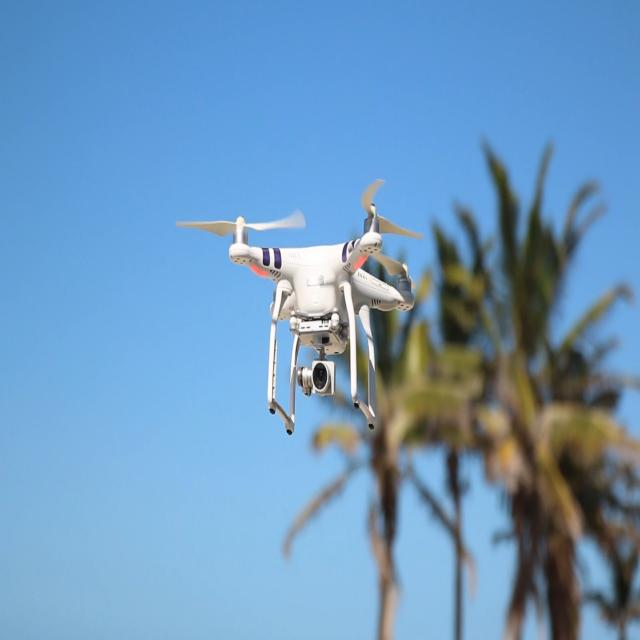Drone: (169, 176, 431, 445)
